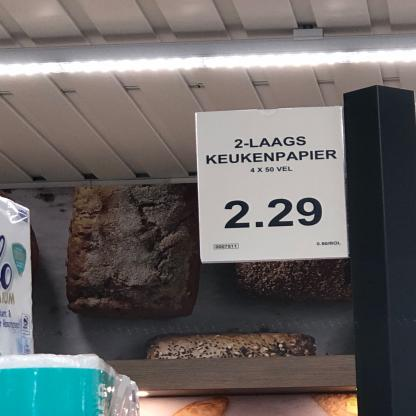prtg: (197, 106, 350, 265)
